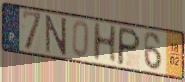0: (71, 20, 91, 61)
6: (143, 31, 164, 73)
7: (21, 9, 43, 53)
H: (91, 21, 118, 65)
N: (44, 14, 68, 58)
P: (116, 26, 142, 68)
